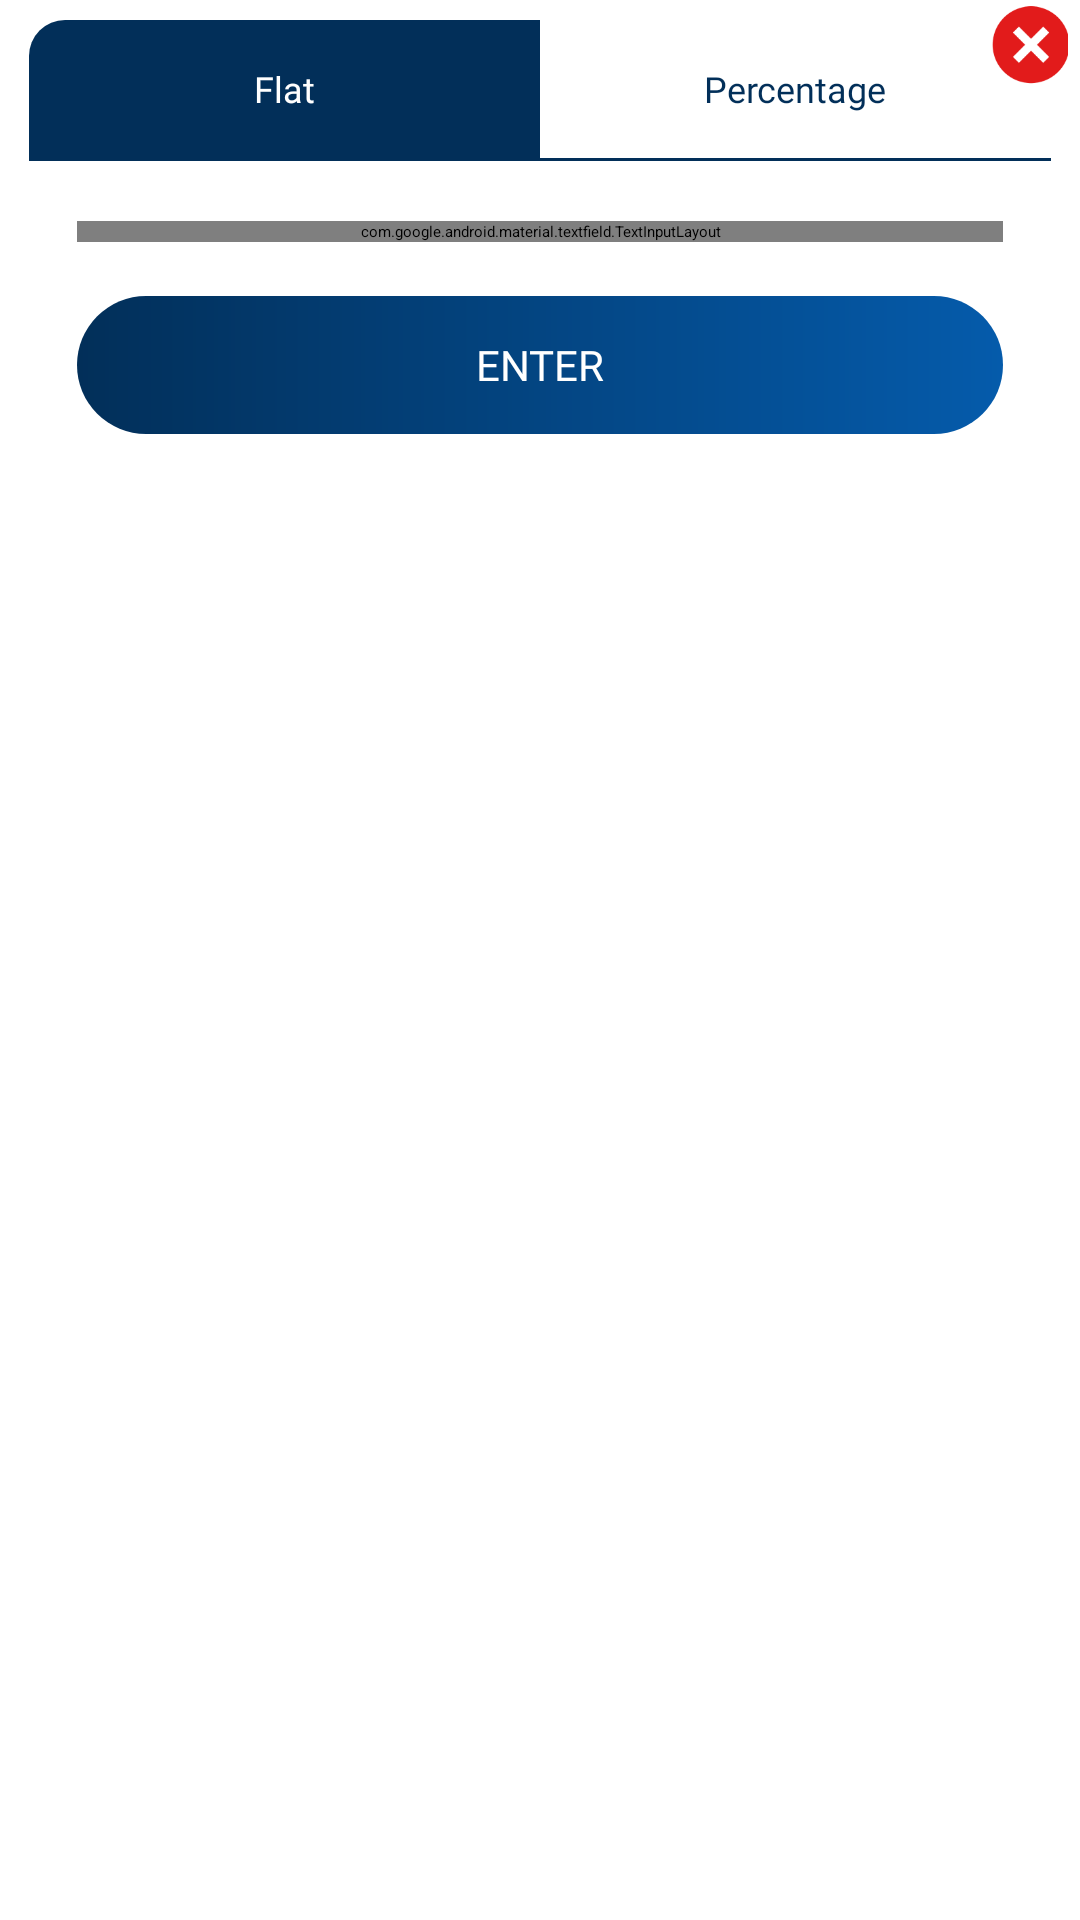

Screen size 1080×1920. Icon name, then its box in pixels as (x1, y1, x2, y2):
cancel: (992, 6, 1068, 84)
